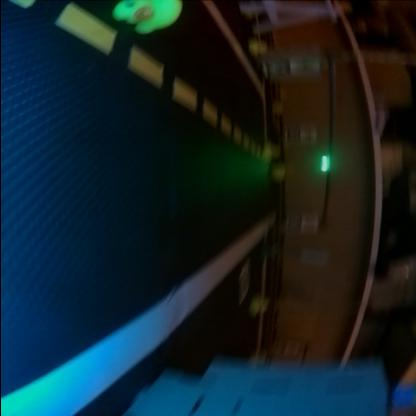Duckie: (113, 2, 183, 34), (249, 298, 268, 316), (249, 39, 267, 56), (270, 165, 288, 181), (263, 144, 279, 158)
QR code: (262, 59, 292, 79), (286, 217, 302, 232), (286, 130, 300, 144)
Traffic light: (318, 156, 333, 174)
